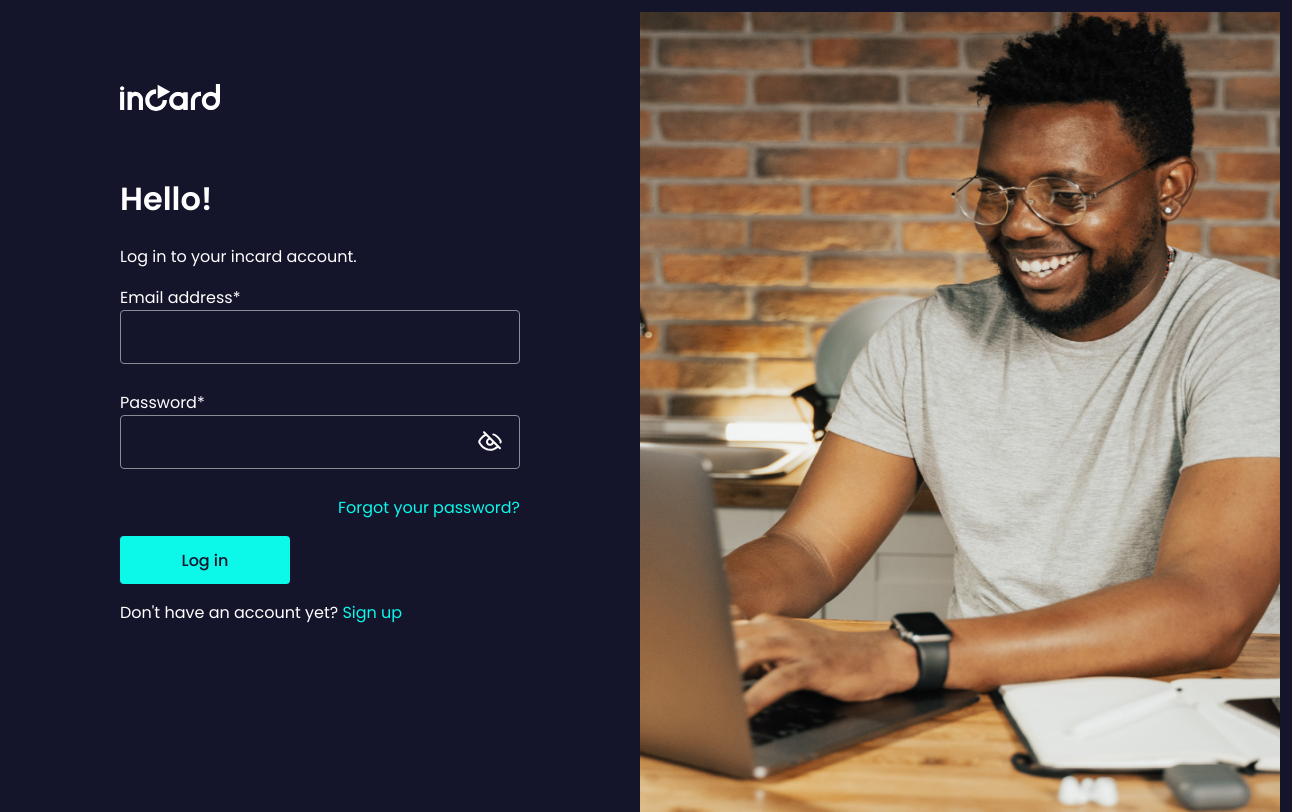
Test: Login page: › it shows errors if try login without inputting anything
Click the button "Log in" at (205, 560), box [120, 536, 290, 584]
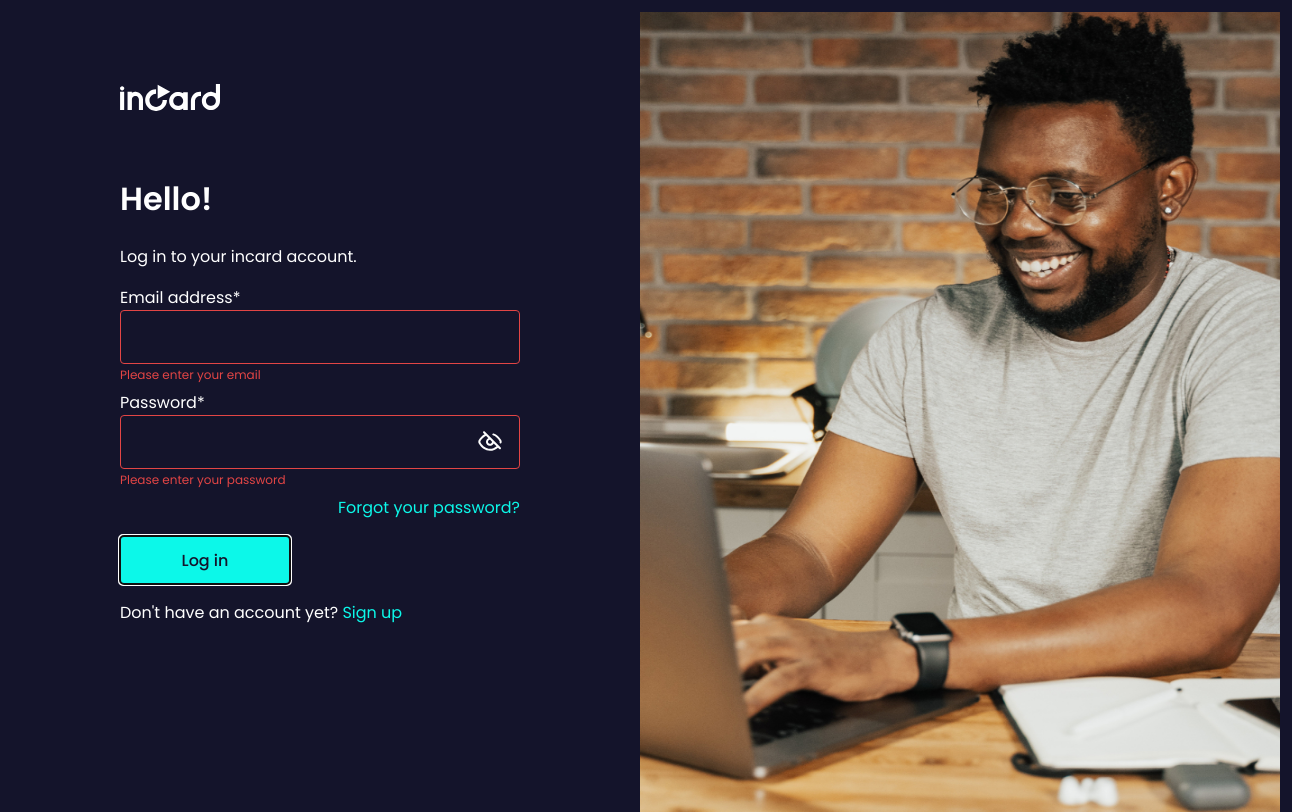
Check: the text "Please enter your email" is shown, box [120, 366, 261, 383]
Check: the text "Please enter your password" is shown, box [120, 471, 286, 488]
